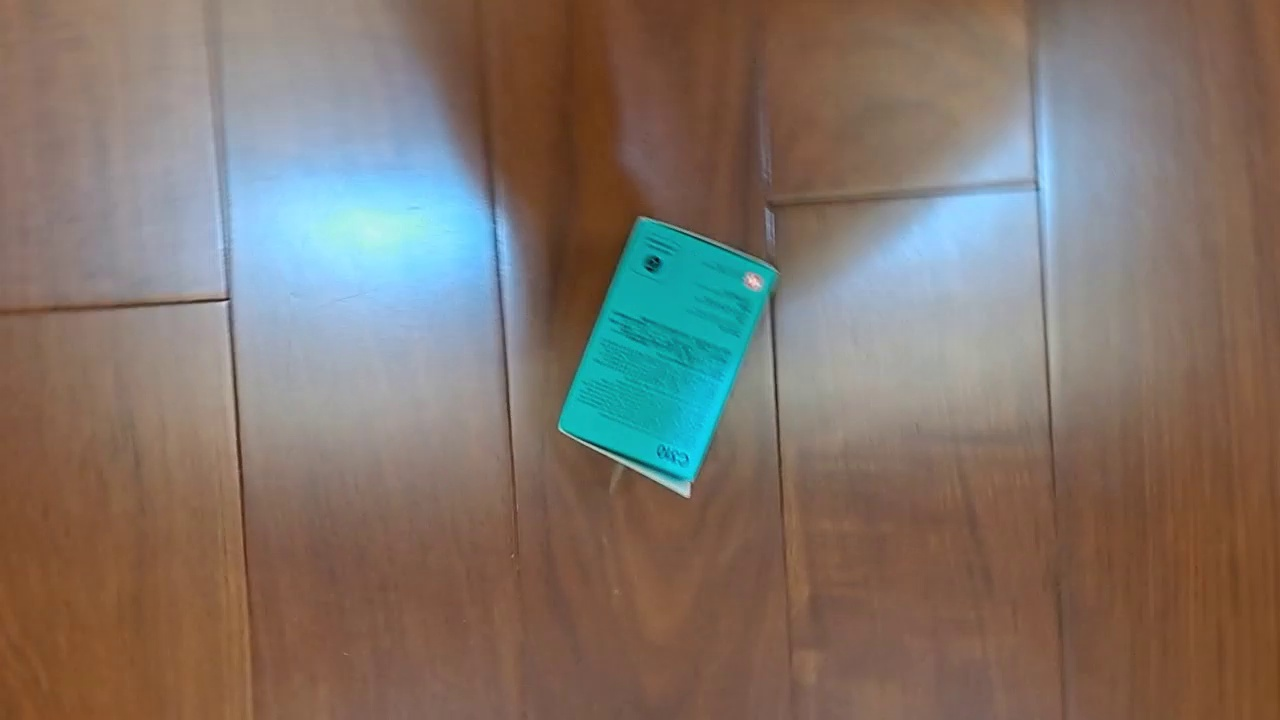webcam: (556, 213, 784, 501)
